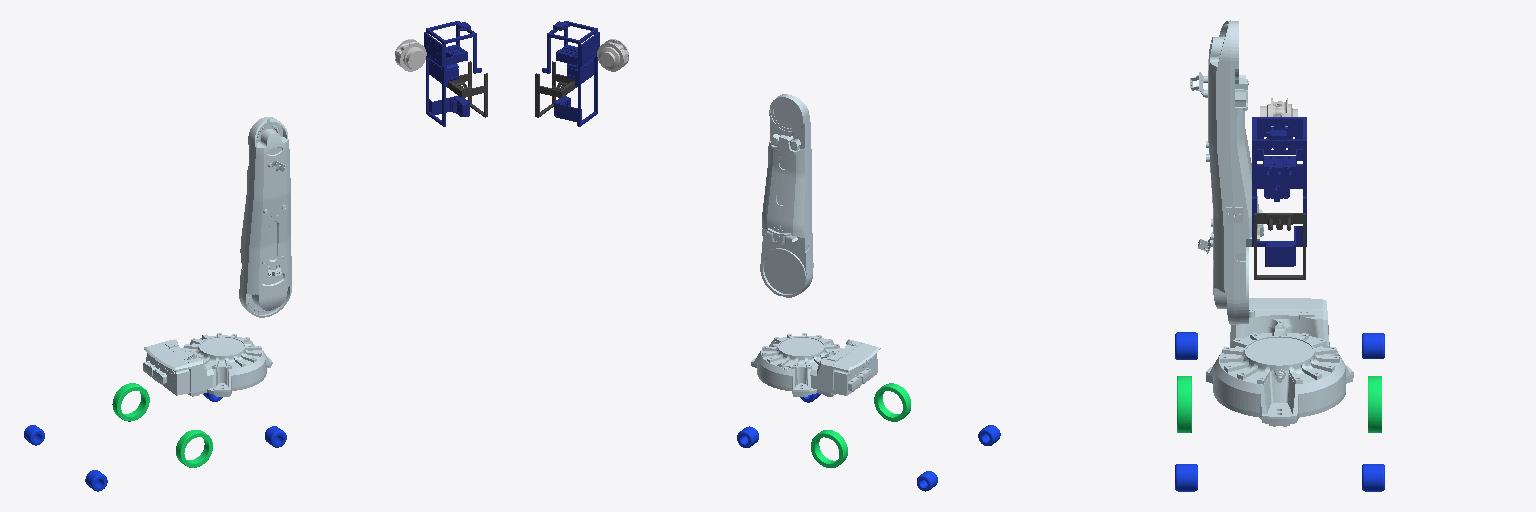
--- Render facts (derived) ---
3 views of the same robot in one strip: view 1: azimuth 30°, elevation 25°; view 2: azimuth 150°, elevation 25°; view 3: azimuth 270°, elevation 25° (orthographic).
Model mirabb with 19 links and 18 joints (7 revolute, 6 continuous, 3 prismatic, 2 fixed), rooted at base_link, posed every joint at zero.
Links seen in each view (by area): view 1: abb_link2__1___1__1, abb_link0__1___1__1, eoat_FRAME__1__1, eoat_LARGE_PAD_LIFTER__1__1, abb_link5__1___1__1, mir_left_drive_wheel_1, mir_right_drive_wheel_1; view 2: abb_link2__1___1__1, abb_link0__1___1__1, eoat_FRAME__1__1, eoat_LARGE_PAD_LIFTER__1__1, abb_link5__1___1__1, mir_right_drive_wheel_1, mir_left_drive_wheel_1; view 3: abb_link0__1___1__1, abb_link2__1___1__1, eoat_FRAME__1__1, eoat_LARGE_PAD_LIFTER__1__1, mir_left_drive_wheel_1, mir_right_drive_wheel_1, mir_rear_left_caster_1, mir_front_right_caster_1, mir_front_left_caster_1, mir_rear_right_caster_1.
Link boxes in pixels (x1,y1,x2,y2): abb_link2__1___1__1: [239, 117, 291, 317]; abb_link0__1___1__1: [143, 333, 272, 396]; eoat_FRAME__1__1: [424, 21, 481, 126]; eoat_LARGE_PAD_LIFTER__1__1: [447, 61, 487, 117]; abb_link5__1___1__1: [395, 39, 426, 71]; mir_left_drive_wheel_1: [176, 430, 212, 467]; mir_right_drive_wheel_1: [112, 383, 149, 421]; abb_link2__1___1__1: [760, 94, 813, 297]; abb_link0__1___1__1: [751, 333, 880, 396]; eoat_FRAME__1__1: [542, 21, 599, 126]; eoat_LARGE_PAD_LIFTER__1__1: [535, 61, 576, 117]; abb_link5__1___1__1: [597, 39, 628, 71]; mir_right_drive_wheel_1: [811, 430, 847, 467]; mir_left_drive_wheel_1: [874, 383, 910, 421]; abb_link0__1___1__1: [1206, 298, 1353, 426]; abb_link2__1___1__1: [1190, 20, 1263, 324]; eoat_FRAME__1__1: [1252, 117, 1306, 266]; eoat_LARGE_PAD_LIFTER__1__1: [1254, 213, 1305, 279]; mir_left_drive_wheel_1: [1177, 376, 1191, 432]; mir_right_drive_wheel_1: [1368, 376, 1381, 432]; mir_rear_left_caster_1: [1175, 332, 1197, 359]; mir_front_right_caster_1: [1362, 464, 1384, 491]; mir_front_left_caster_1: [1175, 464, 1197, 491]; mir_rear_right_caster_1: [1362, 333, 1384, 358].
Bounding box of the posed robot: 2.55 × 0.729 × 1.99 m (x, y, z).
11 mesh visuals loaded from 19 distinct referenced files (11 binary STL); not drawn: 8 (reference not matched to a file when rendering).

The robot description file, URDF, robot "mirabb":
<?xml version="1.0" ?>
<!-- =================================================================================== -->
<!-- |    This document was autogenerated by xacro from [local-path]/ros1/dev_ws/src/mirabb_description/urdf/mirabb.xacro | -->
<!-- |    EDITING THIS FILE BY HAND IS NOT RECOMMENDED                                 | -->
<!-- =================================================================================== -->
<robot name="mirabb">
    <material name="silver_default">
        <color rgba="0.700 0.700 0.700 1.000" />
    </material>
    <material name="opaque636363">
        <color rgba="0.25098039215686274 0.25098039215686274 0.25098039215686274 1.0" />
    </material>
    <material name="opaque25500_1_1">
        <color rgba="0.14901960784313725 0.9607843137254902 0.49019607843137253 1.0" />
    </material>
    <material name="opaque25500_1">
        <color rgba="0.14901960784313725 0.3254901960784314 0.9607843137254902 1.0" />
    </material>
    <material name="opaque25500">
        <color rgba="1.0 0.0 0.0 1.0" />
    </material>
    <material name="powder_coat_rough_grey">
        <color rgba="0.8235294117647058 0.8941176470588236 0.9333333333333333 1.0" />
    </material>
    <material name="opaque215215215">
        <color rgba="0.8431372549019608 0.8431372549019608 0.8431372549019608 1.0" />
    </material>
    <material name="opaque128128128">
        <color rgba="0.5019607843137255 0.5019607843137255 0.5019607843137255 1.0" />
    </material>
    <material name="paint_metallic_blue">
        <color rgba="0.18823529411764706 0.23137254901960785 0.5882352941176471 1.0" />
    </material>
    <material name="paint_metallic_silver">
        <color rgba="0.984313725490196 0.9803921568627451 0.9607843137254902 1.0" />
    </material>
    <material name="paint_metallic_red">
        <color rgba="0.7686274509803922 0.20784313725490197 0.15294117647058825 1.0" />
    </material>
    <material name="generic">
        <color rgba="0.3137254901960784 0.3137254901960784 0.3137254901960784 1.0" />
    </material>
    <transmission name="joint_Base_LeftWheel_tran">
        <type>transmission_interface/SimpleTransmission</type>
        <joint name="joint_Base_LeftWheel">
            <hardwareInterface>hardware_interface/EffortJointInterface</hardwareInterface>
        </joint>
        <actuator name="joint_Base_LeftWheel_actr">
            <hardwareInterface>hardware_interface/EffortJointInterface</hardwareInterface>
            <mechanicalReduction>1</mechanicalReduction>
        </actuator>
    </transmission>
    <transmission name="joint_Base_RightWheel_tran">
        <type>transmission_interface/SimpleTransmission</type>
        <joint name="joint_Base_RightWheel">
            <hardwareInterface>hardware_interface/EffortJointInterface</hardwareInterface>
        </joint>
        <actuator name="joint_Base_RightWheel_actr">
            <hardwareInterface>hardware_interface/EffortJointInterface</hardwareInterface>
            <mechanicalReduction>1</mechanicalReduction>
        </actuator>
    </transmission>
    <transmission name="joint_Base_rear_right_caster_tran">
        <type>transmission_interface/SimpleTransmission</type>
        <joint name="joint_Base_rear_right_caster">
            <hardwareInterface>hardware_interface/EffortJointInterface</hardwareInterface>
        </joint>
        <actuator name="joint_Base_rear_right_caster_actr">
            <hardwareInterface>hardware_interface/EffortJointInterface</hardwareInterface>
            <mechanicalReduction>1</mechanicalReduction>
        </actuator>
    </transmission>
    <transmission name="joint_Base_rear_left_caster_tran">
        <type>transmission_interface/SimpleTransmission</type>
        <joint name="joint_Base_rear_left_caster">
            <hardwareInterface>hardware_interface/EffortJointInterface</hardwareInterface>
        </joint>
        <actuator name="joint_Base_rear_left_caster_actr">
            <hardwareInterface>hardware_interface/EffortJointInterface</hardwareInterface>
            <mechanicalReduction>1</mechanicalReduction>
        </actuator>
    </transmission>
    <transmission name="joint_Base_front_right_caster_tran">
        <type>transmission_interface/SimpleTransmission</type>
        <joint name="joint_Base_front_right_caster">
            <hardwareInterface>hardware_interface/EffortJointInterface</hardwareInterface>
        </joint>
        <actuator name="joint_Base_front_right_caster_actr">
            <hardwareInterface>hardware_interface/EffortJointInterface</hardwareInterface>
            <mechanicalReduction>1</mechanicalReduction>
        </actuator>
    </transmission>
    <transmission name="joint_Base_front_left_caster_tran">
        <type>transmission_interface/SimpleTransmission</type>
        <joint name="joint_Base_front_left_caster">
            <hardwareInterface>hardware_interface/EffortJointInterface</hardwareInterface>
        </joint>
        <actuator name="joint_Base_front_left_caster_actr">
            <hardwareInterface>hardware_interface/EffortJointInterface</hardwareInterface>
            <mechanicalReduction>1</mechanicalReduction>
        </actuator>
    </transmission>
    <transmission name="joint_link0_link1_tran">
        <type>transmission_interface/SimpleTransmission</type>
        <joint name="joint_link0_link1">
            <hardwareInterface>hardware_interface/PositionJointInterface</hardwareInterface>
        </joint>
        <actuator name="joint_link0_link1_actr">
            <hardwareInterface>hardware_interface/PositionJointInterface</hardwareInterface>
            <mechanicalReduction>1</mechanicalReduction>
        </actuator>
    </transmission>
    <transmission name="joint_link1_link2_tran">
        <type>transmission_interface/SimpleTransmission</type>
        <joint name="joint_link1_link2">
            <hardwareInterface>hardware_interface/PositionJointInterface</hardwareInterface>
        </joint>
        <actuator name="joint_link1_link2_actr">
            <hardwareInterface>hardware_interface/PositionJointInterface</hardwareInterface>
            <mechanicalReduction>1</mechanicalReduction>
        </actuator>
    </transmission>
    <transmission name="joint_link2_link3_tran">
        <type>transmission_interface/SimpleTransmission</type>
        <joint name="joint_link2_link3">
            <hardwareInterface>hardware_interface/PositionJointInterface</hardwareInterface>
        </joint>
        <actuator name="joint_link2_link3_actr">
            <hardwareInterface>hardware_interface/PositionJointInterface</hardwareInterface>
            <mechanicalReduction>1</mechanicalReduction>
        </actuator>
    </transmission>
    <transmission name="joint_link3_link4_tran">
        <type>transmission_interface/SimpleTransmission</type>
        <joint name="joint_link3_link4">
            <hardwareInterface>hardware_interface/PositionJointInterface</hardwareInterface>
        </joint>
        <actuator name="joint_link3_link4_actr">
            <hardwareInterface>hardware_interface/PositionJointInterface</hardwareInterface>
            <mechanicalReduction>1</mechanicalReduction>
        </actuator>
    </transmission>
    <transmission name="joint_link4_link5_tran">
        <type>transmission_interface/SimpleTransmission</type>
        <joint name="joint_link4_link5">
            <hardwareInterface>hardware_interface/PositionJointInterface</hardwareInterface>
        </joint>
        <actuator name="joint_link4_link5_actr">
            <hardwareInterface>hardware_interface/PositionJointInterface</hardwareInterface>
            <mechanicalReduction>1</mechanicalReduction>
        </actuator>
    </transmission>
    <transmission name="joint_link5_link6_tran">
        <type>transmission_interface/SimpleTransmission</type>
        <joint name="joint_link5_link6">
            <hardwareInterface>hardware_interface/PositionJointInterface</hardwareInterface>
        </joint>
        <actuator name="joint_link5_link6_actr">
            <hardwareInterface>hardware_interface/PositionJointInterface</hardwareInterface>
            <mechanicalReduction>1</mechanicalReduction>
        </actuator>
    </transmission>
    <transmission name="joint_frame_Lpad_tran">
        <type>transmission_interface/SimpleTransmission</type>
        <joint name="joint_frame_Lpad">
            <hardwareInterface>hardware_interface/PositionJointInterface</hardwareInterface>
        </joint>
        <actuator name="joint_frame_Lpad_actr">
            <hardwareInterface>hardware_interface/PositionJointInterface</hardwareInterface>
            <mechanicalReduction>1</mechanicalReduction>
        </actuator>
    </transmission>
    <transmission name="joint_Lpad_lifter_tran">
        <type>transmission_interface/SimpleTransmission</type>
        <joint name="joint_Lpad_lifter">
            <hardwareInterface>hardware_interface/PositionJointInterface</hardwareInterface>
        </joint>
        <actuator name="joint_Lpad_lifter_actr">
            <hardwareInterface>hardware_interface/PositionJointInterface</hardwareInterface>
            <mechanicalReduction>1</mechanicalReduction>
        </actuator>
    </transmission>
    <transmission name="joint_frame_Slifter_tran">
        <type>transmission_interface/SimpleTransmission</type>
        <joint name="joint_frame_Slifter">
            <hardwareInterface>hardware_interface/PositionJointInterface</hardwareInterface>
        </joint>
        <actuator name="joint_frame_Slifter_actr">
            <hardwareInterface>hardware_interface/PositionJointInterface</hardwareInterface>
            <mechanicalReduction>1</mechanicalReduction>
        </actuator>
    </transmission>
    <transmission name="joint_Slifter_Spad_tran">
        <type>transmission_interface/SimpleTransmission</type>
        <joint name="joint_Slifter_Spad">
            <hardwareInterface>hardware_interface/PositionJointInterface</hardwareInterface>
        </joint>
        <actuator name="joint_Slifter_Spad_actr">
            <hardwareInterface>hardware_interface/PositionJointInterface</hardwareInterface>
            <mechanicalReduction>1</mechanicalReduction>
        </actuator>
    </transmission>
    <gazebo>
        <plugin filename="libgazebo_ros_control.so" name="control" />
        <plugin name="gazebo_ros_control">
            <robotNamespace>/</robotNamespace>
        </plugin>
    </gazebo>
    <gazebo reference="base_link">
        <material>Gazebo/Silver</material>
        <mu1>0.2</mu1>
        <mu2>0.2</mu2>
        <selfCollide>true</selfCollide>
        <gravity>true</gravity>
    </gazebo>
    <gazebo reference="mir_left_drive_wheel_1">
        <material>Gazebo/Silver</material>
        <mu1>0.2</mu1>
        <mu2>0.2</mu2>
        <selfCollide>true</selfCollide>
    </gazebo>
    <gazebo reference="mir_right_drive_wheel_1">
        <material>Gazebo/Silver</material>
        <mu1>0.2</mu1>
        <mu2>0.2</mu2>
        <selfCollide>true</selfCollide>
    </gazebo>
    <gazebo reference="mir_rear_right_caster_1">
        <material>Gazebo/Silver</material>
        <mu1>0.2</mu1>
        <mu2>0.2</mu2>
        <selfCollide>true</selfCollide>
    </gazebo>
    <gazebo reference="mir_rear_left_caster_1">
        <material>Gazebo/Silver</material>
        <mu1>0.2</mu1>
        <mu2>0.2</mu2>
        <selfCollide>true</selfCollide>
    </gazebo>
    <gazebo reference="mir_front_right_caster_1">
        <material>Gazebo/Silver</material>
        <mu1>0.2</mu1>
        <mu2>0.2</mu2>
        <selfCollide>true</selfCollide>
    </gazebo>
    <gazebo reference="mir_front_left_caster_1">
        <material>Gazebo/Silver</material>
        <mu1>0.2</mu1>
        <mu2>0.2</mu2>
        <selfCollide>true</selfCollide>
    </gazebo>
    <gazebo reference="abb_link0__1___1__1">
        <material>Gazebo/Silver</material>
        <mu1>0.2</mu1>
        <mu2>0.2</mu2>
        <selfCollide>true</selfCollide>
    </gazebo>
    <gazebo reference="abb_link1__1___1__1">
        <material>Gazebo/Silver</material>
        <mu1>0.2</mu1>
        <mu2>0.2</mu2>
        <selfCollide>true</selfCollide>
    </gazebo>
    <gazebo reference="abb_link2__1___1__1">
        <material>Gazebo/Silver</material>
        <mu1>0.2</mu1>
        <mu2>0.2</mu2>
        <selfCollide>true</selfCollide>
    </gazebo>
    <gazebo reference="abb_link3__1___1__1">
        <material>Gazebo/Silver</material>
        <mu1>0.2</mu1>
        <mu2>0.2</mu2>
        <selfCollide>true</selfCollide>
    </gazebo>
    <gazebo reference="abb_link4__1___1__1">
        <material>Gazebo/Silver</material>
        <mu1>0.2</mu1>
        <mu2>0.2</mu2>
        <selfCollide>true</selfCollide>
    </gazebo>
    <gazebo reference="abb_link5__1___1__1">
        <material>Gazebo/Silver</material>
        <mu1>0.2</mu1>
        <mu2>0.2</mu2>
        <selfCollide>true</selfCollide>
    </gazebo>
    <gazebo reference="abb_link6__1___1__1">
        <material>Gazebo/Silver</material>
        <mu1>0.2</mu1>
        <mu2>0.2</mu2>
        <selfCollide>true</selfCollide>
    </gazebo>
    <gazebo reference="eoat_FRAME__1__1">
        <material>Gazebo/Silver</material>
        <mu1>0.2</mu1>
        <mu2>0.2</mu2>
        <selfCollide>true</selfCollide>
    </gazebo>
    <gazebo reference="eoat_LARGE_PAD__1__1">
        <material>Gazebo/Silver</material>
        <mu1>0.2</mu1>
        <mu2>0.2</mu2>
        <selfCollide>true</selfCollide>
    </gazebo>
    <gazebo reference="eoat_LARGE_PAD_LIFTER__1__1">
        <material>Gazebo/Silver</material>
        <mu1>0.2</mu1>
        <mu2>0.2</mu2>
        <selfCollide>true</selfCollide>
    </gazebo>
    <gazebo reference="eoat_SMALL_PAD_LIFTER__1__1">
        <material>Gazebo/Silver</material>
        <mu1>0.2</mu1>
        <mu2>0.2</mu2>
        <selfCollide>true</selfCollide>
    </gazebo>
    <gazebo reference="eoat_SMALL_PAD__1__1">
        <material>Gazebo/Silver</material>
        <mu1>0.2</mu1>
        <mu2>0.2</mu2>
        <selfCollide>true</selfCollide>
    </gazebo>
    <link name="base_link">
        <inertial>
            <origin rpy="0 0 0" xyz="-0.14772812309663302 -0.023206697854912604 0.4203334227386186" />
            <mass value="1373.8024974130929" />
            <inertia ixx="199.757361" ixy="11.317127" ixz="56.773936" iyy="263.585665" iyz="-1.492251" izz="251.283031" />
        </inertial>
        <visual>
            <origin rpy="0 0 0" xyz="0 0 0" />
            <geometry>
                <mesh filename="package://mirabb_description/meshes/base_link.stl" scale="0.001 0.001 0.001" />
            </geometry>
            <material name="opaque636363" />
        </visual>
        <collision>
            <origin rpy="0 0 0" xyz="0 0 0" />
            <geometry>
                <mesh filename="package://mirabb_description/meshes/base_link.stl" scale="0.001 0.001 0.001" />
            </geometry>
        </collision>
    </link>
    <link name="mir_left_drive_wheel_1">
        <inertial>
            <origin rpy="0 0 0" xyz="2.1315413548247345e-07 1.7219884374530814e-06 -6.709368598589727e-06" />
            <mass value="5.294052840904085" />
            <inertia ixx="0.021658" ixy="0.0" ixz="-0.0" iyy="0.041149" iyz="1e-06" izz="0.021656" />
        </inertial>
        <visual>
            <origin rpy="0 0 0" xyz="0.000842 0.331703 -0.102346" />
            <geometry>
                <mesh filename="package://mirabb_description/meshes/mir_left_drive_wheel_1.stl" scale="0.001 0.001 0.001" />
            </geometry>
            <material name="opaque25500_1_1" />
        </visual>
        <collision>
            <origin rpy="0 0 0" xyz="0.000842 0.331703 -0.102346" />
            <geometry>
                <mesh filename="package://mirabb_description/meshes/mir_left_drive_wheel_1.stl" scale="0.001 0.001 0.001" />
            </geometry>
        </collision>
    </link>
    <link name="mir_right_drive_wheel_1">
        <inertial>
            <origin rpy="0 0 0" xyz="7.484477992811224e-07 -2.2718773015073523e-06 -6.709368683271988e-06" />
            <mass value="5.294052840904829" />
            <inertia ixx="0.021658" ixy="0.0" ixz="0.0" iyy="0.041149" iyz="-1e-06" izz="0.021656" />
        </inertial>
        <visual>
            <origin rpy="0 0 0" xyz="0.000842 -0.330477 -0.102346" />
            <geometry>
                <mesh filename="package://mirabb_description/meshes/mir_right_drive_wheel_1.stl" scale="0.001 0.001 0.001" />
            </geometry>
            <material name="opaque25500_1_1" />
        </visual>
        <collision>
            <origin rpy="0 0 0" xyz="0.000842 -0.330477 -0.102346" />
            <geometry>
                <mesh filename="package://mirabb_description/meshes/mir_right_drive_wheel_1.stl" scale="0.001 0.001 0.001" />
            </geometry>
        </collision>
    </link>
    <link name="mir_rear_right_caster_1">
        <inertial>
            <origin rpy="0 0 0" xyz="4.808006703882484e-07 -2.749445809913098e-07 -2.1737521140735572e-07" />
            <mass value="2.8340302939762845" />
            <inertia ixx="0.00334" ixy="-0.0" ixz="-0.0" iyy="0.003822" iyz="-0.0" izz="0.00334" />
        </inertial>
        <visual>
            <origin rpy="0 0 0" xyz="0.587342 -0.324887 -0.052346" />
            <geometry>
                <mesh filename="package://mirabb_description/meshes/mir_rear_right_caster_1.stl" scale="0.001 0.001 0.001" />
            </geometry>
            <material name="opaque25500_1" />
        </visual>
        <collision>
            <origin rpy="0 0 0" xyz="0.587342 -0.324887 -0.052346" />
            <geometry>
                <mesh filename="package://mirabb_description/meshes/mir_rear_right_caster_1.stl" scale="0.001 0.001 0.001" />
            </geometry>
        </collision>
    </link>
    <link name="mir_rear_left_caster_1">
        <inertial>
            <origin rpy="0 0 0" xyz="4.808008184919998e-07 -2.749445659477878e-07 -2.1737514686176462e-07" />
            <mass value="3.2863508269475776" />
            <inertia ixx="0.00407" ixy="-0.0" ixz="0.0" iyy="0.004808" iyz="-0.0" izz="0.00407" />
        </inertial>
        <visual>
            <origin rpy="0 0 0" xyz="0.587342 0.324113 -0.052346" />
            <geometry>
                <mesh filename="package://mirabb_description/meshes/mir_rear_left_caster_1.stl" scale="0.001 0.001 0.001" />
            </geometry>
            <material name="opaque25500_1" />
        </visual>
        <collision>
            <origin rpy="0 0 0" xyz="0.587342 0.324113 -0.052346" />
            <geometry>
                <mesh filename="package://mirabb_description/meshes/mir_rear_left_caster_1.stl" scale="0.001 0.001 0.001" />
            </geometry>
        </collision>
    </link>
    <link name="mir_front_right_caster_1">
        <inertial>
            <origin rpy="0 0 0" xyz="-4.941080842812973e-07 -2.749443341332203e-07 -4.5438580856260735e-07" />
            <mass value="3.286350826947556" />
            <inertia ixx="0.00407" ixy="-0.0" ixz="-0.0" iyy="0.004808" iyz="-0.0" izz="0.00407" />
        </inertial>
        <visual>
            <origin rpy="0 0 0" xyz="-0.492668 -0.324887 -0.052365" />
            <geometry>
                <mesh filename="package://mirabb_description/meshes/mir_front_right_caster_1.stl" scale="0.001 0.001 0.001" />
            </geometry>
            <material name="opaque25500_1" />
        </visual>
        <collision>
            <origin rpy="0 0 0" xyz="-0.492668 -0.324887 -0.052365" />
            <geometry>
                <mesh filename="package://mirabb_description/meshes/mir_front_right_caster_1.stl" scale="0.001 0.001 0.001" />
            </geometry>
        </collision>
    </link>
    <link name="mir_front_left_caster_1">
        <inertial>
            <origin rpy="0 0 0" xyz="-4.941078886600003e-07 -2.7494431548147347e-07 -4.543858788466637e-07" />
            <mass value="3.2863508269475816" />
            <inertia ixx="0.00407" ixy="0.0" ixz="-0.0" iyy="0.004808" iyz="-0.0" izz="0.00407" />
        </inertial>
        <visual>
            <origin rpy="0 0 0" xyz="-0.492668 0.324113 -0.052365" />
            <geometry>
                <mesh filename="package://mirabb_description/meshes/mir_front_left_caster_1.stl" scale="0.001 0.001 0.001" />
            </geometry>
            <material name="opaque25500_1" />
        </visual>
        <collision>
            <origin rpy="0 0 0" xyz="-0.492668 0.324113 -0.052365" />
            <geometry>
                <mesh filename="package://mirabb_description/meshes/mir_front_left_caster_1.stl" scale="0.001 0.001 0.001" />
            </geometry>
        </collision>
    </link>
    <link name="abb_link0__1___1__1">
        <inertial>
            <origin rpy="0 0 0" xyz="-0.09119346561175606 0.0003630237210969841 0.07246431742776649" />
            <mass value="237.71328449728193" />
            <inertia ixx="3.322456" ixy="0.030784" ixz="0.455197" iyy="6.746895" iyz="0.001141" izz="9.112071" />
        </inertial>
        <visual>
            <origin rpy="0 0 0" xyz="-0.357783 0.000662 -0.322346" />
            <geometry>
                <mesh filename="package://mirabb_description/meshes/abb_link0__1___1__1.stl" scale="0.001 0.001 0.001" />
            </geometry>
            <material name="powder_coat_rough_grey" />
        </visual>
        <collision>
            <origin rpy="0 0 0" xyz="-0.357783 0.000662 -0.322346" />
            <geometry>
                <mesh filename="package://mirabb_description/meshes/abb_link0__1___1__1.stl" scale="0.001 0.001 0.001" />
            </geometry>
        </collision>
    </link>
    <link name="abb_link1__1___1__1">
        <inertial>
            <origin rpy="0 0 0" xyz="0.0770381921903589 0.02468988684405638 0.24069822644139682" />
            <mass value="332.94668738644" />
            <inertia ixx="8.732818" ixy="-0.760548" ixz="-2.349544" iyy="11.378244" iyz="-0.812185" izz="9.105966" />
        </inertial>
        <visual>
            <origin rpy="0 0 0" xyz="-0.357783 0.000662 -0.475846" />
            <geometry>
                <mesh filename="package://mirabb_description/meshes/abb_link1__1___1__1.stl" scale="0.001 0.001 0.001" />
            </geometry>
            <material name="powder_coat_rough_grey" />
        </visual>
        <collision>
            <origin rpy="0 0 0" xyz="-0.357783 0.000662 -0.475846" />
            <geometry>
                <mesh filename="package://mirabb_description/meshes/abb_link1__1___1__1.stl" scale="0.001 0.001 0.001" />
            </geometry>
        </collision>
    </link>
    <link name="abb_link2__1___1__1">
        <inertial>
            <origin rpy="0 0 0" xyz="8.115108053485809e-05 -0.04807066318993641 0.39677546222613913" />
            <mass value="220.41574953890566" />
            <inertia ixx="17.032393" ixy="-0.000226" ixz="0.002216" iyy="17.64881" iyz="0.57807" izz="1.263078" />
        </inertial>
        <visual>
            <origin rpy="0 0 0" xyz="-0.532783 0.123162 -0.811346" />
            <geometry>
                <mesh filename="package://mirabb_description/meshes/abb_link2__1___1__1.stl" scale="0.001 0.001 0.001" />
            </geometry>
            <material name="powder_coat_rough_grey" />
        </visual>
        <collision>
            <origin rpy="0 0 0" xyz="-0.532783 0.123162 -0.811346" />
            <geometry>
                <mesh filename="package://mirabb_description/meshes/abb_link2__1___1__1.stl" scale="0.001 0.001 0.001" />
            </geometry>
        </collision>
    </link>
    <link name="abb_link3__1___1__1">
        <inertial>
            <origin rpy="0 0 0" xyz="0.04071241501864575 0.19846588331938803 0.11876174508797432" />
            <mass value="400.49713290828447" />
            <inertia ixx="8.893944" ixy="0.577245" ixz="-0.921475" iyy="10.887964" iyz="-0.110791" izz="8.946809" />
        </inertial>
        <visual>
            <origin rpy="0 0 0" xyz="-0.532783 0.149862 -1.711346" />
            <geometry>
                <mesh filename="package://mirabb_description/meshes/abb_link3__1___1__1.stl" scale="0.001 0.001 0.001" />
            </geometry>
            <material name="powder_coat_rough_grey" />
        </visual>
        <collision>
            <origin rpy="0 0 0" xyz="-0.532783 0.149862 -1.711346" />
            <geometry>
                <mesh filename="package://mirabb_description/meshes/abb_link3__1___1__1.stl" scale="0.001 0.001 0.001" />
            </geometry>
        </collision>
    </link>
    <link name="abb_link4__1___1__1">
        <inertial>
            <origin rpy="0 0 0" xyz="0.3931328503470747 -0.001975761568746799 -0.002846156235639885" />
            <mass value="87.24410051263763" />
            <inertia ixx="0.41803" ixy="0.044332" ixz="0.018011" iyy="3.624483" iyz="0.000227" izz="3.763004" />
        </inertial>
        <visual>
            <origin rpy="0 0 0" xyz="-0.872883 0.000662 -1.886346" />
            <geometry>
                <mesh filename="package://mirabb_description/meshes/abb_link4__1___1__1.stl" scale="0.001 0.001 0.001" />
            </geometry>
            <material name="powder_coat_rough_grey" />
        </visual>
        <collision>
            <origin rpy="0 0 0" xyz="-0.872883 0.000662 -1.886346" />
            <geometry>
                <mesh filename="package://mirabb_description/meshes/abb_link4__1___1__1.stl" scale="0.001 0.001 0.001" />
            </geometry>
        </collision>
    </link>
    <link name="abb_link5__1___1__1">
        <inertial>
            <origin rpy="0 0 0" xyz="-0.001050837673909566 -0.06745178444475677 0.000400066383309694" />
            <mass value="11.79629310062911" />
            <inertia ixx="0.023766" ixy="-6e-06" ixz="-0.000134" iyy="0.024654" iyz="-4e-05" izz="0.026173" />
        </inertial>
        <visual>
            <origin rpy="0 0 0" xyz="-1.492783 -0.063338 -1.886346" />
            <geometry>
                <mesh filename="package://mirabb_description/meshes/abb_link5__1___1__1.stl" scale="0.001 0.001 0.001" />
            </geometry>
            <material name="opaque215215215" />
        </visual>
        <collision>
            <origin rpy="0 0 0" xyz="-1.492783 -0.063338 -1.886346" />
            <geometry>
                <mesh filename="package://mirabb_description/meshes/abb_link5__1___1__1.stl" scale="0.001 0.001 0.001" />
            </geometry>
        </collision>
    </link>
    <link name="abb_link6__1___1__1">
        <inertial>
            <origin rpy="0 0 0" xyz="0.04834495659572857 -0.0002895257483309458 0.00013833881264391223" />
            <mass value="2.088759832475839" />
            <inertia ixx="0.002956" ixy="6e-06" ixz="-2e-06" iyy="0.002242" iyz="-2.1e-05" izz="0.002257" />
        </inertial>
        <visual>
            <origin rpy="0 0 0" xyz="-1.557783 0.000662 -1.886346" />
            <geometry>
                <mesh filename="package://mirabb_description/meshes/abb_link6__1___1__1.stl" scale="0.001 0.001 0.001" />
            </geometry>
            <material name="opaque128128128" />
        </visual>
        <collision>
            <origin rpy="0 0 0" xyz="-1.557783 0.000662 -1.886346" />
            <geometry>
                <mesh filename="package://mirabb_description/meshes/abb_link6__1___1__1.stl" scale="0.001 0.001 0.001" />
            </geometry>
        </collision>
    </link>
    <link name="eoat_FRAME__1__1">
        <inertial>
            <origin rpy="0 0 0" xyz="0.09435402654960545 -0.024443476502948997 -0.1809282457600363" />
            <mass value="18.545525251382905" />
            <inertia ixx="0.453826" ixy="-0.000281" ixz="0.036009" iyy="0.490217" iyz="0.009786" izz="0.136509" />
        </inertial>
        <visual>
            <origin rpy="0 0 0" xyz="-1.627783 -0.024338 -1.929647" />
            <geometry>
                <mesh filename="package://mirabb_description/meshes/eoat_FRAME__1__1.stl" scale="0.001 0.001 0.001" />
            </geometry>
            <material name="paint_metallic_blue" />
        </visual>
        <collision>
            <origin rpy="0 0 0" xyz="-1.627783 -0.024338 -1.929647" />
            <geometry>
                <mesh filename="package://mirabb_description/meshes/eoat_FRAME__1__1.stl" scale="0.001 0.001 0.001" />
            </geometry>
        </collision>
    </link>
    <link name="eoat_LARGE_PAD__1__1">
        <inertial>
            <origin rpy="0 0 0" xyz="0.004010304521571584 0.07995109560914467 -0.13300869834630413" />
            <mass value="11.366258677174638" />
            <inertia ixx="0.089057" ixy="-2.8e-05" ixz="0.002048" iyy="0.072156" iyz="0.0" izz="0.030313" />
        </inertial>
        <visual>
            <origin rpy="0 0 0" xyz="-1.847783 0.080662 -1.750846" />
            <geometry>
                <mesh filename="package://mirabb_description/meshes/eoat_LARGE_PAD__1__1.stl" scale="0.001 0.001 0.001" />
            </geometry>
            <material name="paint_metallic_silver" />
        </visual>
        <collision>
            <origin rpy="0 0 0" xyz="-1.847783 0.080662 -1.750846" />
            <geometry>
                <mesh filename="package://mirabb_description/meshes/eoat_LARGE_PAD__1__1.stl" scale="0.001 0.001 0.001" />
            </geometry>
        </collision>
    </link>
    <link name="eoat_LARGE_PAD_LIFTER__1__1">
        <inertial>
            <origin rpy="0 0 0" xyz="0.06094357946520934 3.5250784968430225e-08 -0.022431829490297206" />
            <mass value="2.7783433343628725" />
            <inertia ixx="0.022484" ixy="0.0" ixz="0.004273" iyy="0.019086" iyz="-0.0" izz="0.023473" />
        </inertial>
        <visual>
            <origin rpy="0 0 0" xyz="-1.770283 0.000662 -1.633846" />
            <geometry>
                <mesh filename="package://mirabb_description/meshes/eoat_LARGE_PAD_LIFTER__1__1.stl" scale="0.001 0.001 0.001" />
            </geometry>
            <material name="generic" />
        </visual>
        <collision>
            <origin rpy="0 0 0" xyz="-1.770283 0.000662 -1.633846" />
            <geometry>
                <mesh filename="package://mirabb_description/meshes/eoat_LARGE_PAD_LIFTER__1__1.stl" scale="0.001 0.001 0.001" />
            </geometry>
        </collision>
    </link>
    <link name="eoat_SMALL_PAD_LIFTER__1__1">
        <inertial>
            <origin rpy="0 0 0" xyz="-0.038754353853061474 -0.00041457716043523976 0.037254020568219914" />
            <mass value="5.1319675889827" />
            <inertia ixx="0.009503" ixy="-1.3e-05" ixz="0.001465" iyy="0.01009" iyz="5.5e-05" izz="0.01215" />
        </inertial>
        <visual>
            <origin rpy="0 0 0" xyz="-1.805783 7.2e-05 -1.830846" />
            <geometry>
                <mesh filename="package://mirabb_description/meshes/eoat_SMALL_PAD_LIFTER__1__1.stl" scale="0.001 0.001 0.001" />
            </geometry>
            <material name="paint_metallic_red" />
        </visual>
        <collision>
            <origin rpy="0 0 0" xyz="-1.805783 7.2e-05 -1.830846" />
            <geometry>
                <mesh filename="package://mirabb_description/meshes/eoat_SMALL_PAD_LIFTER__1__1.stl" scale="0.001 0.001 0.001" />
            </geometry>
        </collision>
    </link>
    <link name="eoat_SMALL_PAD__1__1">
        <inertial>
            <origin rpy="0 0 0" xyz="0.025113317898471932 2.9552189966326162e-05 -0.0002673043609695558" />
            <mass value="7.679302710691369" />
            <inertia ixx="0.037858" ixy="2e-06" ixz="-2.1e-05" iyy="0.021317" iyz="-1e-05" izz="0.028823" />
        </inertial>
        <visual>
            <origin rpy="0 0 0" xyz="-1.803783 0.000662 -1.888846" />
            <geometry>
                <mesh filename="package://mirabb_description/meshes/eoat_SMALL_PAD__1__1.stl" scale="0.001 0.001 0.001" />
            </geometry>
            <material name="paint_metallic_silver" />
        </visual>
        <collision>
            <origin rpy="0 0 0" xyz="-1.803783 0.000662 -1.888846" />
            <geometry>
                <mesh filename="package://mirabb_description/meshes/eoat_SMALL_PAD__1__1.stl" scale="0.001 0.001 0.001" />
            </geometry>
        </collision>
    </link>
    <joint name="joint_Base_LeftWheel" type="continuous">
        <origin rpy="0 0 0" xyz="-0.000842 -0.331703 0.102346" />
        <parent link="base_link" />
        <child link="mir_left_drive_wheel_1" />
        <axis xyz="-0.0 1.0 -0.0" />
    </joint>
    <joint name="joint_Base_RightWheel" type="continuous">
        <origin rpy="0 0 0" xyz="-0.000842 0.330477 0.102346" />
        <parent link="base_link" />
        <child link="mir_right_drive_wheel_1" />
        <axis xyz="-0.0 1.0 -0.0" />
    </joint>
    <joint name="joint_Base_rear_right_caster" type="continuous">
        <origin rpy="0 0 0" xyz="-0.587342 0.324887 0.052346" />
        <parent link="base_link" />
        <child link="mir_rear_right_caster_1" />
        <axis xyz="-0.0 1.0 -0.0" />
    </joint>
    <joint name="joint_Base_rear_left_caster" type="continuous">
        <origin rpy="0 0 0" xyz="-0.587342 -0.324113 0.052346" />
        <parent link="base_link" />
        <child link="mir_rear_left_caster_1" />
        <axis xyz="-0.0 1.0 -0.0" />
    </joint>
    <joint name="joint_Base_front_right_caster" type="continuous">
        <origin rpy="0 0 0" xyz="0.492668 0.324887 0.052365" />
        <parent link="base_link" />
        <child link="mir_front_right_caster_1" />
        <axis xyz="-0.0 1.0 -0.0" />
    </joint>
    <joint name="joint_Base_front_left_caster" type="continuous">
        <origin rpy="0 0 0" xyz="0.492668 -0.324113 0.052365" />
        <parent link="base_link" />
        <child link="mir_front_left_caster_1" />
        <axis xyz="-0.0 1.0 -0.0" />
    </joint>
    <joint name="joint_Base_link0" type="fixed">
        <origin rpy="0 0 0" xyz="0.357783 -0.000662 0.322346" />
        <parent link="base_link" />
        <child link="abb_link0__1___1__1" />
    </joint>
    <joint name="joint_link0_link1" type="revolute">
        <origin rpy="0 0 0" xyz="0.0 0.0 0.1535" />
        <parent link="abb_link0__1___1__1" />
        <child link="abb_link1__1___1__1" />
        <axis xyz="0.0 0.0 1.0" />
        <limit effort="100" lower="-1.5708" upper="1.5708" velocity="10" />
    </joint>
    <joint name="joint_link1_link2" type="revolute">
        <origin rpy="0 0 0" xyz="0.175 -0.1225 0.3355" />
        <parent link="abb_link1__1___1__1" />
        <child link="abb_link2__1___1__1" />
        <axis xyz="0.0 -1.0 0.0" />
        <limit effort="100" lower="-1.5708" upper="1.5708" velocity="10" />
    </joint>
    <joint name="joint_link2_link3" type="revolute">
        <origin rpy="0 0 0" xyz="0.0 -0.0267 0.9" />
        <parent link="abb_link2__1___1__1" />
        <child link="abb_link3__1___1__1" />
        <axis xyz="-0.0 1.0 -0.0" />
        <limit effort="100" lower="-1.5708" upper="1.5708" velocity="10" />
    </joint>
    <joint name="joint_link3_link4" type="revolute">
        <origin rpy="0 0 0" xyz="0.3401 0.1492 0.175" />
        <parent link="abb_link3__1___1__1" />
        <child link="abb_link4__1___1__1" />
        <axis xyz="1.0 0.0 -0.0" />
        <limit effort="100" lower="-1.5708" upper="1.5708" velocity="10" />
    </joint>
    <joint name="joint_link4_link5" type="revolute">
        <origin rpy="0 0 0" xyz="0.6199 0.064 0.0" />
        <parent link="abb_link4__1___1__1" />
        <child link="abb_link5__1___1__1" />
        <axis xyz="0.0 -1.0 0.0" />
        <limit effort="100" lower="-1.5708" upper="1.5708" velocity="10" />
    </joint>
    <joint name="joint_link5_link6" type="revolute">
        <origin rpy="0 0 0" xyz="0.065 -0.064 0.0" />
        <parent link="abb_link5__1___1__1" />
        <child link="abb_link6__1___1__1" />
        <axis xyz="1.0 0.0 -0.0" />
        <limit effort="100" lower="-1.5708" upper="1.5708" velocity="10" />
    </joint>
    <joint name="joint_link6_frame" type="fixed">
        <origin rpy="0 0 0" xyz="0.07 0.025 0.043301" />
        <parent link="abb_link6__1___1__1" />
        <child link="eoat_FRAME__1__1" />
    </joint>
    <joint name="joint_frame_Lpad" type="revolute">
        <origin rpy="0 0 0" xyz="0.22 -0.105 -0.178801" />
        <parent link="eoat_FRAME__1__1" />
        <child link="eoat_LARGE_PAD__1__1" />
        <axis xyz="-0.0 1.0 -0.0" />
        <limit effort="100" lower="-1.5708" upper="0.0" velocity="10" />
    </joint>
    <joint name="joint_Lpad_lifter" type="prismatic">
        <origin rpy="0 0 0" xyz="-0.0775 0.08 -0.117" />
        <parent link="eoat_LARGE_PAD__1__1" />
        <child link="eoat_LARGE_PAD_LIFTER__1__1" />
        <axis xyz="-1.0 -0.0 0.0" />
        <limit effort="100" lower="0.0" upper="0.70" velocity="10" />
    </joint>
    <joint name="joint_frame_Slifter" type="prismatic">
        <origin rpy="0 0 0" xyz="0.178 -0.02441 -0.098801" />
        <parent link="eoat_FRAME__1__1" />
        <child link="eoat_SMALL_PAD_LIFTER__1__1" />
        <axis xyz="1.0 0.0 -0.0" />
        <limit effort="100" lower="0.0" upper="0.7" velocity="10" />
    </joint>
    <joint name="joint_Slifter_Spad" type="prismatic">
        <origin rpy="0 0 0" xyz="-0.002 -0.00059 0.058" />
        <parent link="eoat_SMALL_PAD_LIFTER__1__1" />
        <child link="eoat_SMALL_PAD__1__1" />
        <axis xyz="1.0 0.0 -0.0" />
        <limit effort="100" lower="0.0" upper="0.7" velocity="10" />
    </joint>
</robot>
